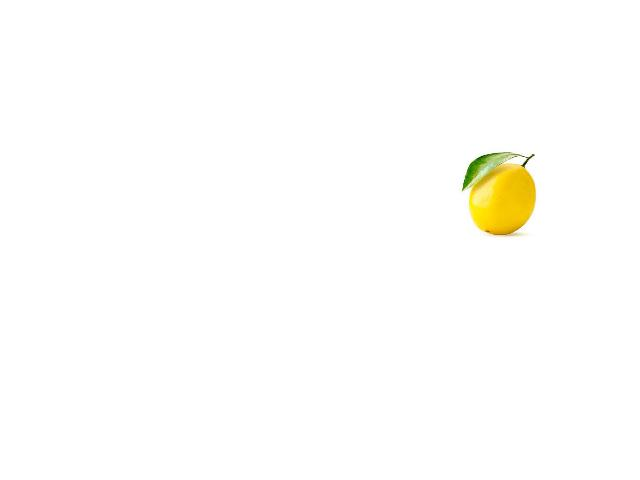lemon: (464, 154, 538, 237)
